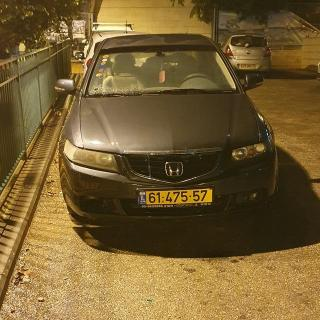LicensePlate: (146, 189, 212, 205), (243, 65, 256, 68)
